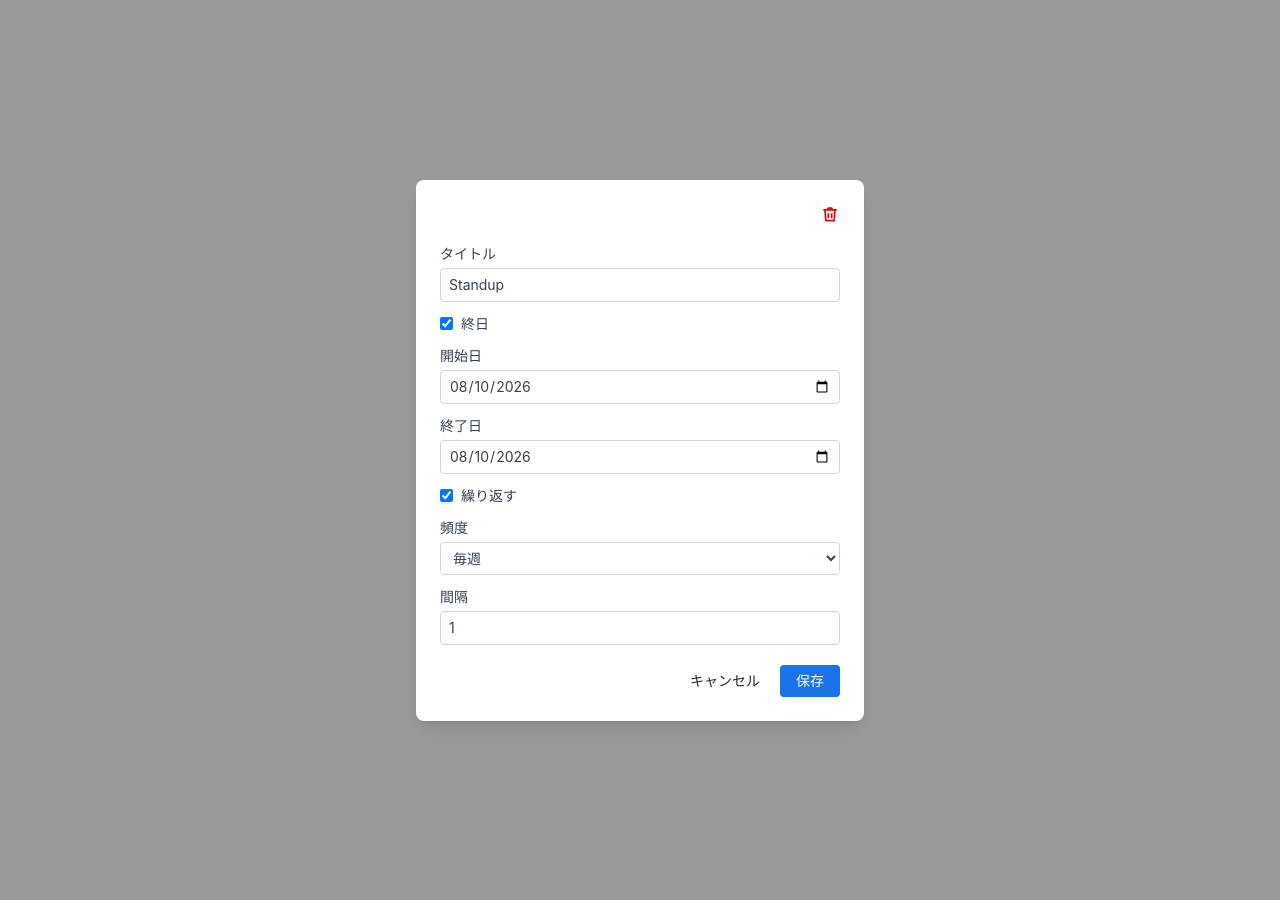
explains that deleting a recurring event deletes its series
Click the button named "予定を削除" at (830, 214), box [812,196,848,232]
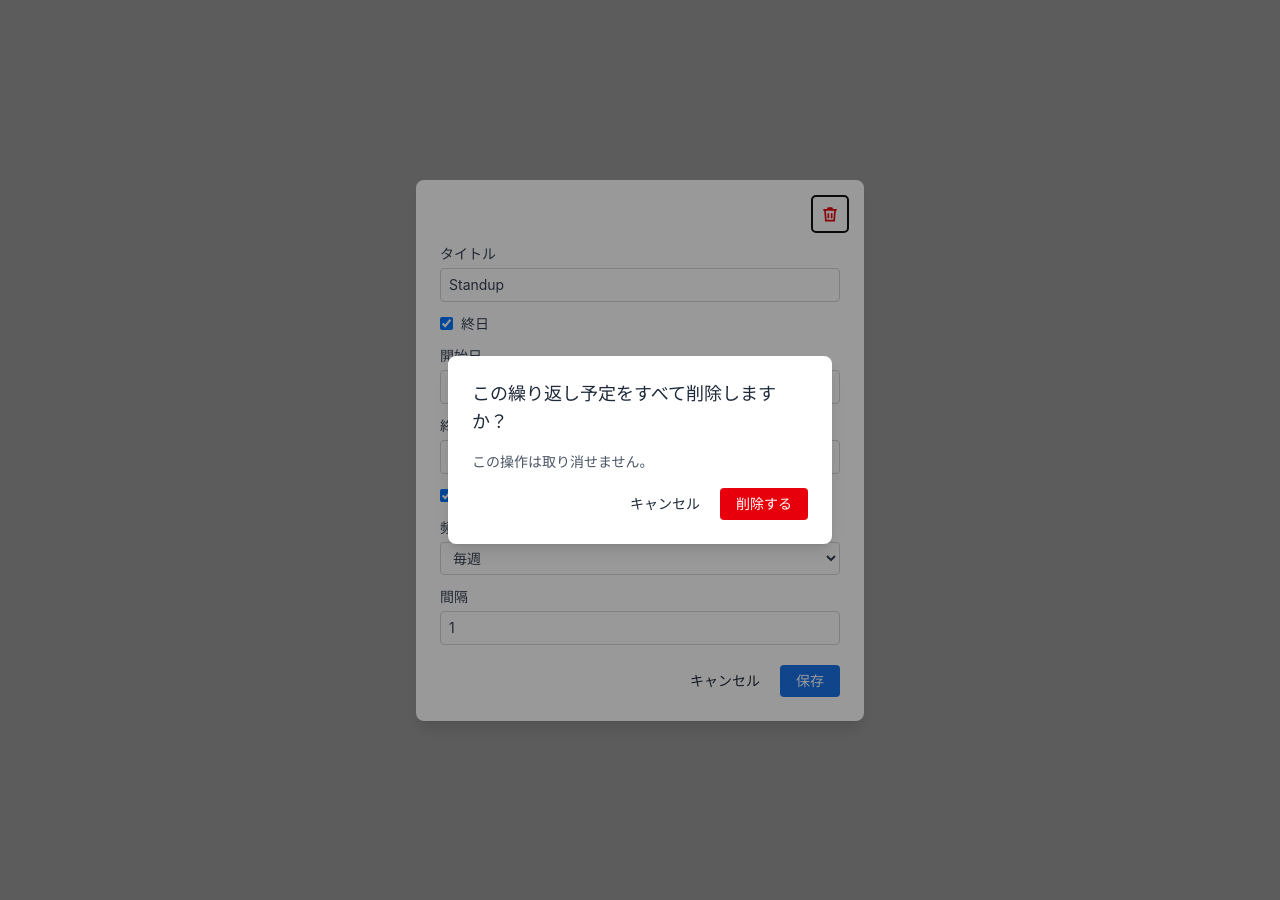
expect the dialog "この繰り返し予定をすべて削除しますか？ この操作は取り消せません。 キャンセル 削除する" is shown: met, box [448,356,832,544]
